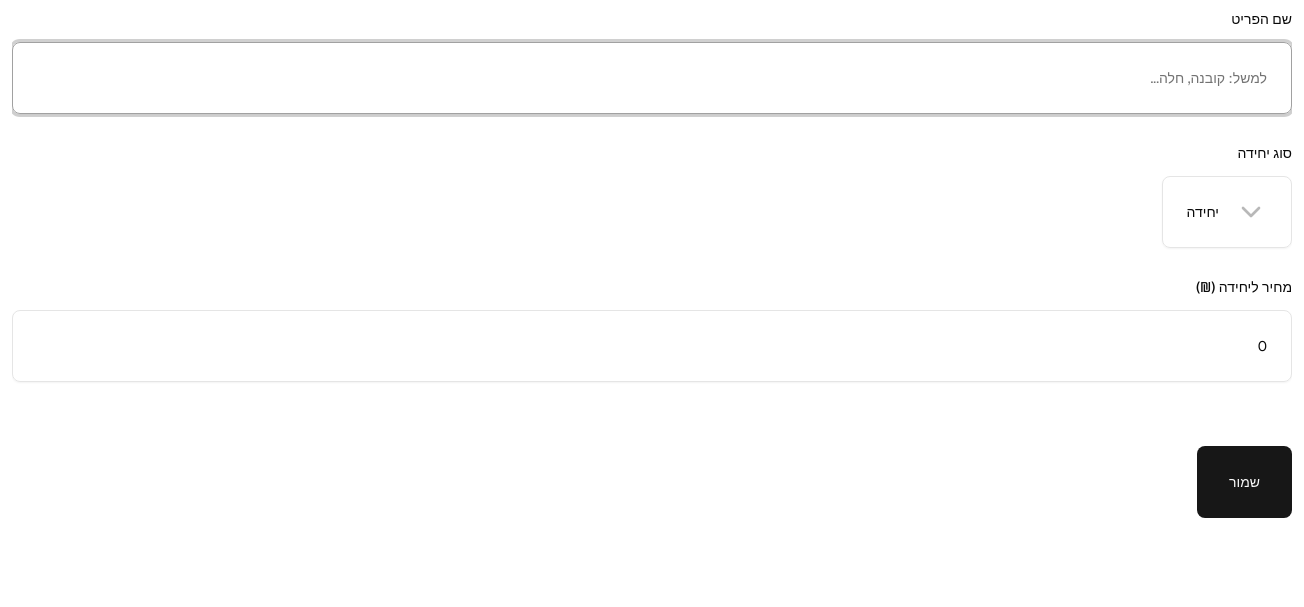
Test: MenuItemForm › shows Hebrew validation errors for empty name
Step 1. Click the button "שמור" → (1244, 482), box [1197,446,1292,518]
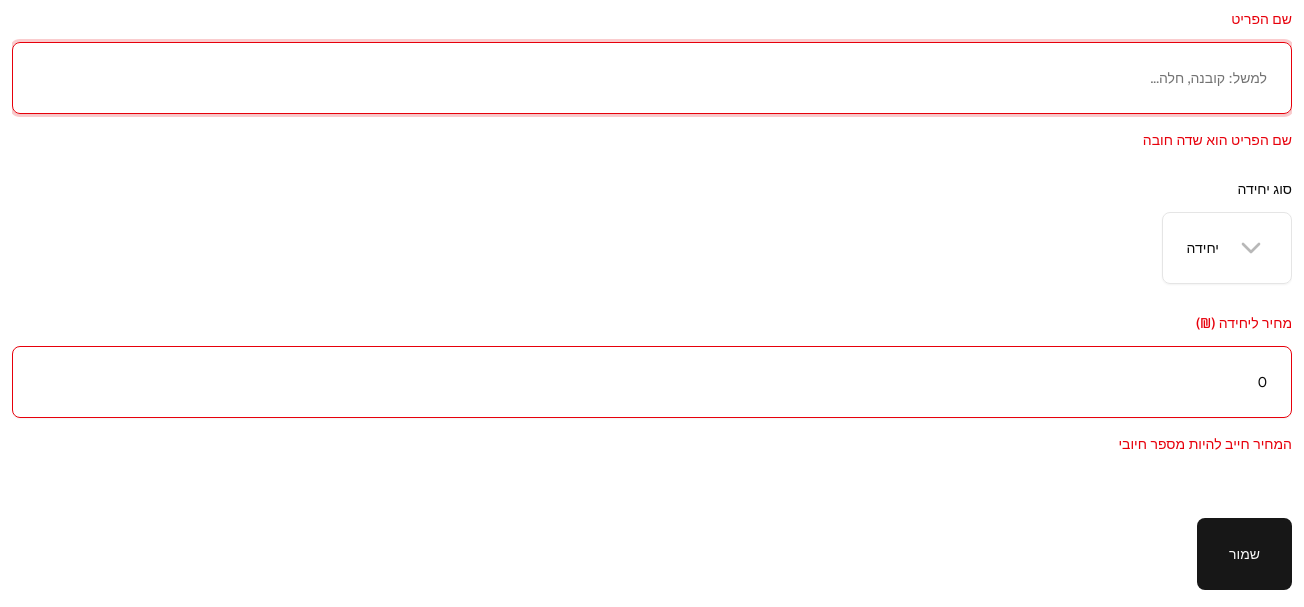
Check: the text "שם הפריט הוא שדה חובה" is shown, box [1143,131,1292,149]
